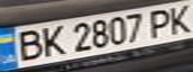0: (106, 15, 130, 46)
2: (69, 19, 93, 53)
7: (124, 10, 148, 43)
8: (90, 16, 112, 50)
B: (9, 27, 45, 62)
K: (36, 24, 69, 58), (163, 1, 193, 35)
P: (142, 6, 178, 38)
